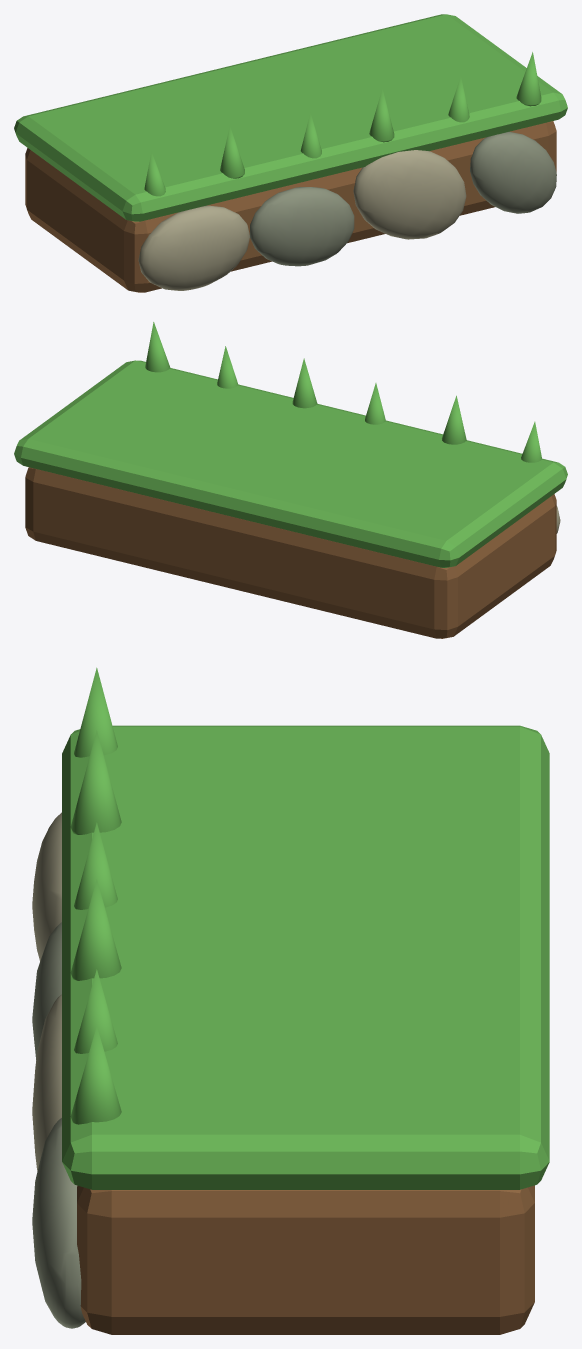
File: meadow_ledge.glb
3 views of the same model, one above another, from view 1: azimuth 30°, elevation 25°; view 2: azimuth 150°, elevation 25°; view 3: azimuth 270°, elevation 25° (orthographic). The views are drawn at different scales.
Parts seen in each view (by area): view 1: LedgeGrassMat, LedgeCore, LedgeRock_2, LedgeRock_0, LedgeRock_1, LedgeRock_3, LedgeGrassBlade_5, LedgeGrassBlade_3, LedgeGrassBlade_1, LedgeGrassBlade_4, LedgeGrassBlade_2, LedgeGrassBlade_0; view 2: LedgeGrassMat, LedgeCore, LedgeGrassBlade_5, LedgeGrassBlade_3, LedgeGrassBlade_1, LedgeGrassBlade_4, LedgeGrassBlade_2, LedgeGrassBlade_0; view 3: LedgeGrassMat, LedgeCore, LedgeRock_3, LedgeRock_2, LedgeRock_0, LedgeGrassBlade_1, LedgeGrassBlade_3, LedgeGrassBlade_5, LedgeRock_1, LedgeGrassBlade_0, LedgeGrassBlade_2, LedgeGrassBlade_4.
Part boxes in pixels (bbox=[...]): LedgeGrassMat: bbox=[14, 14, 567, 221]; LedgeCore: bbox=[25, 121, 556, 292]; LedgeRock_2: bbox=[353, 150, 466, 239]; LedgeRock_0: bbox=[138, 205, 249, 290]; LedgeRock_1: bbox=[250, 187, 354, 266]; LedgeRock_3: bbox=[470, 131, 556, 213]; LedgeGrassBlade_5: bbox=[516, 52, 541, 106]; LedgeGrassBlade_3: bbox=[369, 88, 394, 142]; LedgeGrassBlade_1: bbox=[220, 126, 244, 178]; LedgeGrassBlade_4: bbox=[448, 76, 469, 122]; LedgeGrassBlade_2: bbox=[300, 112, 321, 158]; LedgeGrassBlade_0: bbox=[144, 151, 165, 196]; LedgeGrassMat: bbox=[14, 360, 567, 567]; LedgeCore: bbox=[25, 467, 556, 638]; LedgeGrassBlade_5: bbox=[145, 322, 170, 372]; LedgeGrassBlade_3: bbox=[292, 358, 317, 408]; LedgeGrassBlade_1: bbox=[442, 395, 466, 444]; LedgeGrassBlade_4: bbox=[217, 346, 238, 388]; LedgeGrassBlade_2: bbox=[365, 383, 385, 424]; LedgeGrassBlade_0: bbox=[521, 421, 542, 462]; LedgeGrassMat: bbox=[62, 725, 549, 1189]; LedgeCore: bbox=[77, 1185, 534, 1334]; LedgeRock_3: bbox=[32, 1118, 85, 1328]; LedgeRock_2: bbox=[32, 994, 61, 1171]; LedgeRock_0: bbox=[32, 812, 61, 961]; LedgeGrassBlade_1: bbox=[70, 730, 121, 834]; LedgeGrassBlade_3: bbox=[70, 879, 121, 980]; LedgeGrassBlade_5: bbox=[70, 1026, 121, 1124]; LedgeRock_1: bbox=[32, 922, 61, 1059]; LedgeGrassBlade_0: bbox=[74, 667, 117, 757]; LedgeGrassBlade_2: bbox=[74, 822, 117, 909]; LedgeGrassBlade_4: bbox=[74, 969, 117, 1053].
Bounding box in the file's own units: 2.06 × 0.6805 × 1.04.
